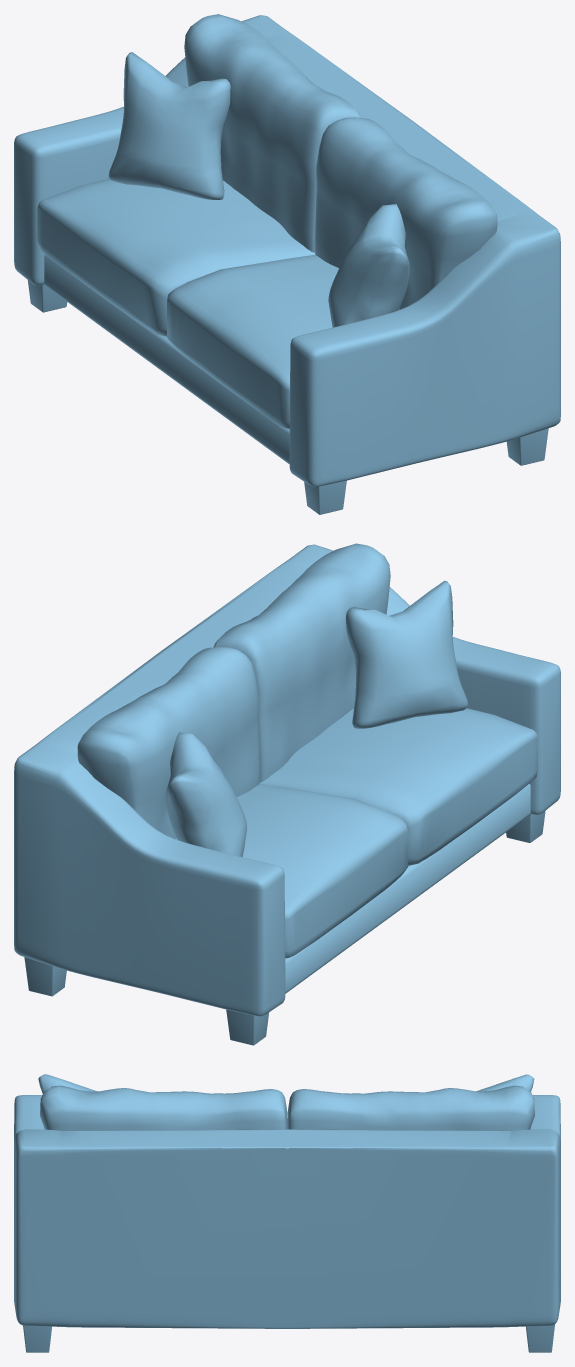
Rendered from sofa_1.fbx.
3 renders of one model, top to bottom at view 1: azimuth 30°, elevation 25°; view 2: azimuth 150°, elevation 25°; view 3: azimuth 270°, elevation 25°, orthographic. The views are drawn at different scales.
Visible parts, largest first — view 1: ready; view 2: ready; view 3: ready.
Part boxes in pixels (x1,y1,x2,y2): ready: (14,14,560,514); ready: (14,543,560,1045); ready: (14,1074,560,1352).
Size of the model in its own units: 3900 by 3800 by 8000.
